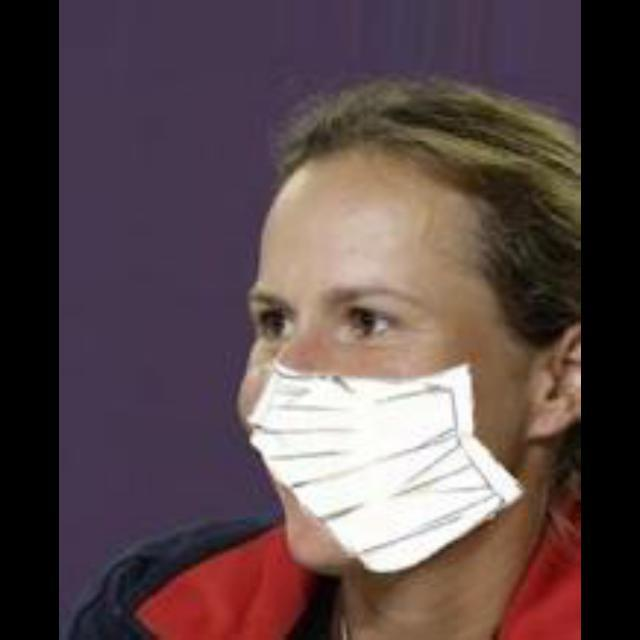suspicion: (228, 126, 542, 578)
